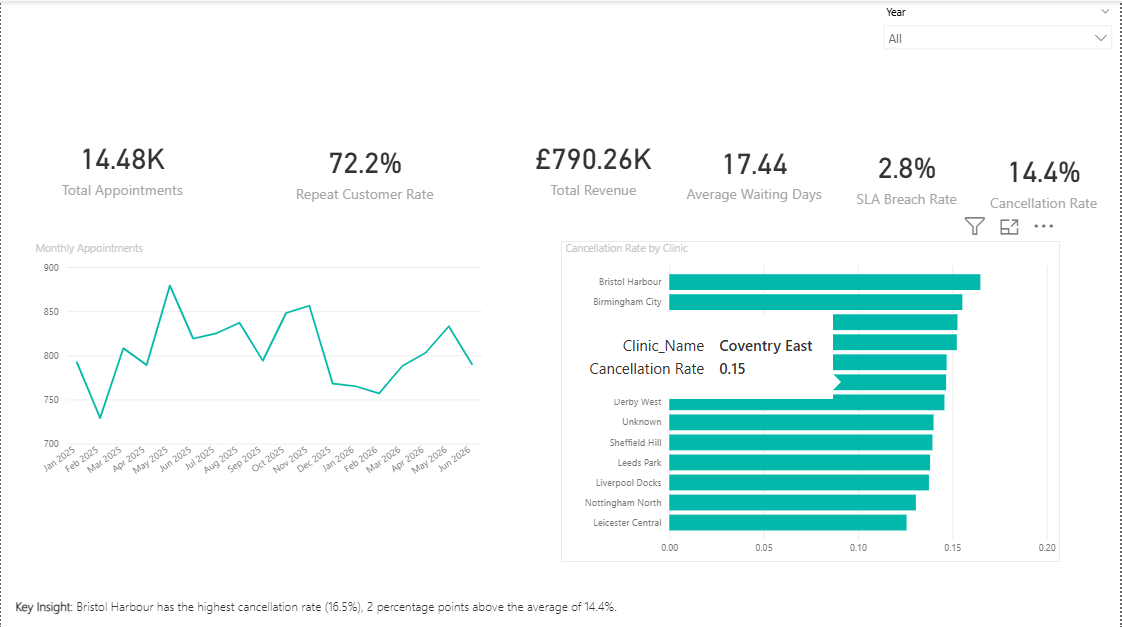

This screenshot's page, from the dashboard's own definition file:
{"tool":"powerbi","page":{"name":"Executive Overview","canvas":[1280,720],"ordinal":2},"visuals":[{"type":"slicer","fields":{"Values":["Dim_Date.Year"]},"box":[999,0,281,85.3],"z":0},{"type":"card","fields":{"Values":["_Measures.Total Appointments"]},"box":[0,135.7,277.4,105.7],"z":1000},{"type":"card","fields":{"Values":["_Measures.Cancellation Rate"]},"box":[1102.3,146.5,177.7,114.1],"z":2000},{"type":"card","fields":{"Values":["_Measures.Average Waiting Days"]},"box":[770.9,136.9,178.9,114.1],"z":3000},{"type":"card","fields":{"Values":["_Measures.SLA Breach Rate"]},"box":[949.8,146.5,170.5,104.5],"z":4000},{"type":"card","fields":{"Values":["_Measures.Total Revenue"]},"box":[537.9,135.7,277.4,105.7],"z":5000},{"type":"card","fields":{"Values":["_Measures.Repeat Customer Rate"]},"box":[277.4,136.9,277.4,112.9],"z":6000},{"type":"lineChart","title":"Monthly Appointments","fields":{"Category":["Dim_Date.Month_Year"],"Y":["_Measures.Total Appointments"]},"box":[34.8,273.8,519.9,279.8],"z":7000},{"type":"clusteredBarChart","title":"Cancellation Rate by Clinic","fields":{"Category":["Dim_Clinic.Clinic_Name"],"Y":["_Measures.Cancellation Rate"]},"box":[640,273.8,570.4,367.4],"z":8000},{"type":"textbox","box":[10.8,677.2,731.3,43.2],"z":9000}]}

Visuals, with their boxes in screenshot pixels (x1, y1, x2, y2), scaled from the page's 1280x720 canvas onto the 1122x627 screenshot:
slicer - Dim_Date.Year: rect(876, 0, 1121, 74)
card - _Measures.Total Appointments: rect(0, 118, 243, 210)
card - _Measures.Cancellation Rate: rect(966, 128, 1121, 227)
card - _Measures.Average Waiting Days: rect(676, 119, 833, 219)
card - _Measures.SLA Breach Rate: rect(833, 128, 982, 219)
card - _Measures.Total Revenue: rect(472, 118, 715, 210)
card - _Measures.Repeat Customer Rate: rect(243, 119, 486, 218)
"Monthly Appointments" lineChart: rect(31, 238, 486, 482)
"Cancellation Rate by Clinic" clusteredBarChart: rect(561, 238, 1061, 558)
textbox: rect(9, 590, 650, 626)
